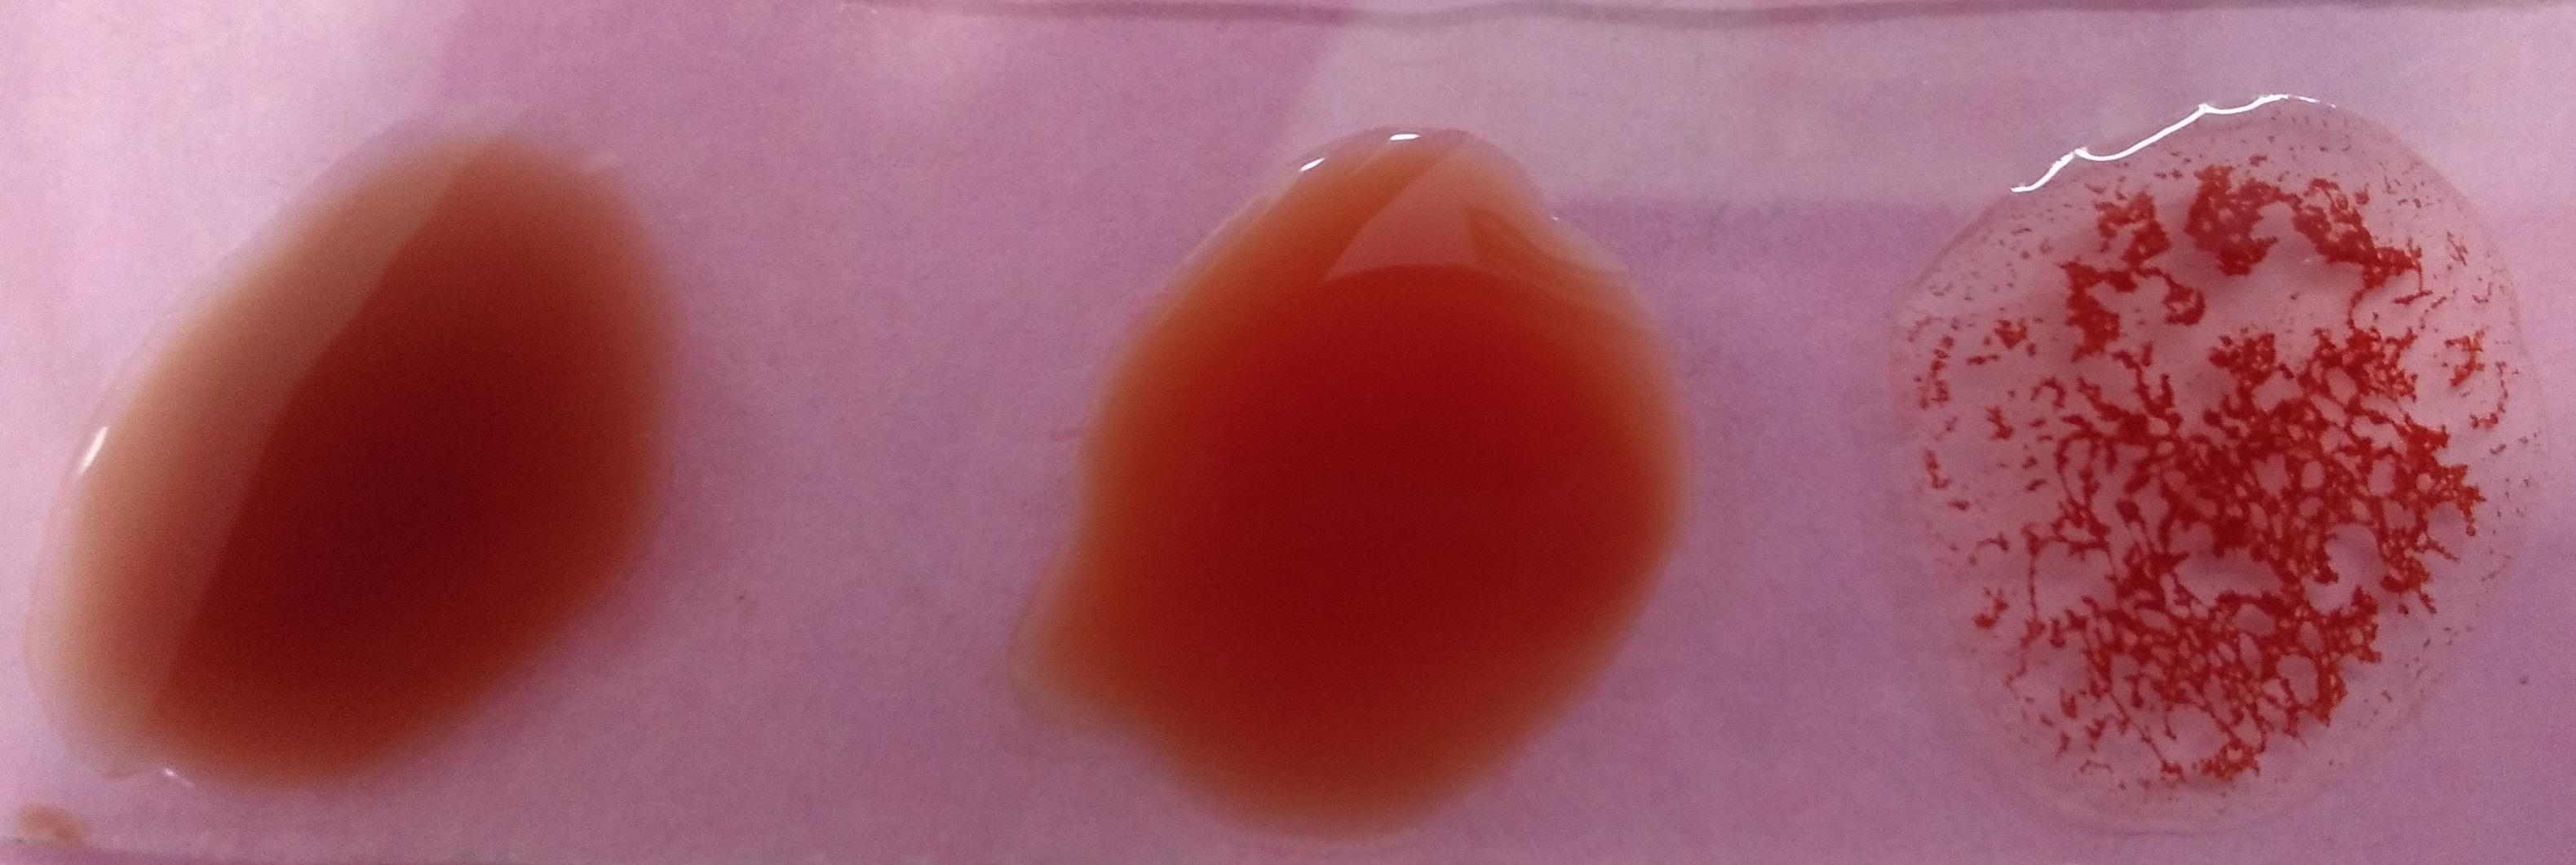D: (1901, 94, 2517, 796)
